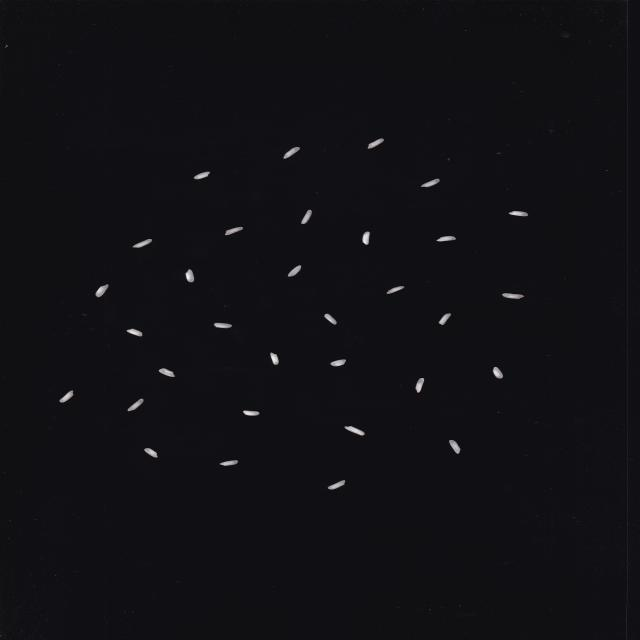Chalky: (344, 426, 366, 436), (128, 398, 145, 410), (283, 147, 300, 159), (420, 178, 440, 188), (96, 284, 110, 298), (327, 480, 346, 490), (132, 239, 153, 248), (287, 265, 302, 277), (60, 390, 75, 402), (224, 226, 243, 235), (367, 138, 384, 148), (449, 440, 461, 454), (193, 171, 211, 180), (159, 368, 175, 378), (438, 313, 451, 325), (492, 366, 504, 378), (386, 286, 404, 294), (302, 210, 312, 224), (144, 448, 158, 458), (126, 329, 143, 337), (502, 293, 524, 299), (185, 269, 195, 282), (324, 314, 337, 324), (213, 322, 232, 328), (416, 378, 424, 392), (362, 231, 370, 245), (220, 460, 238, 466), (331, 359, 346, 366), (243, 410, 260, 416), (509, 211, 529, 216), (436, 236, 456, 241), (271, 353, 279, 365)
